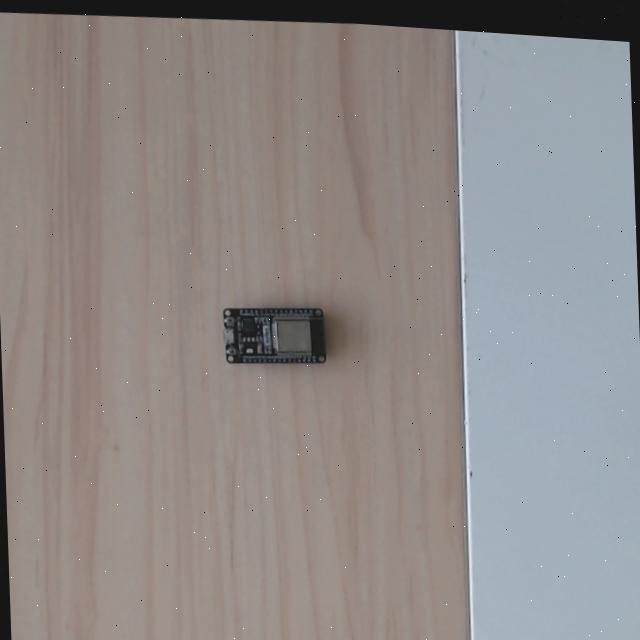ESP32-DevKit: (219, 304, 326, 364)
